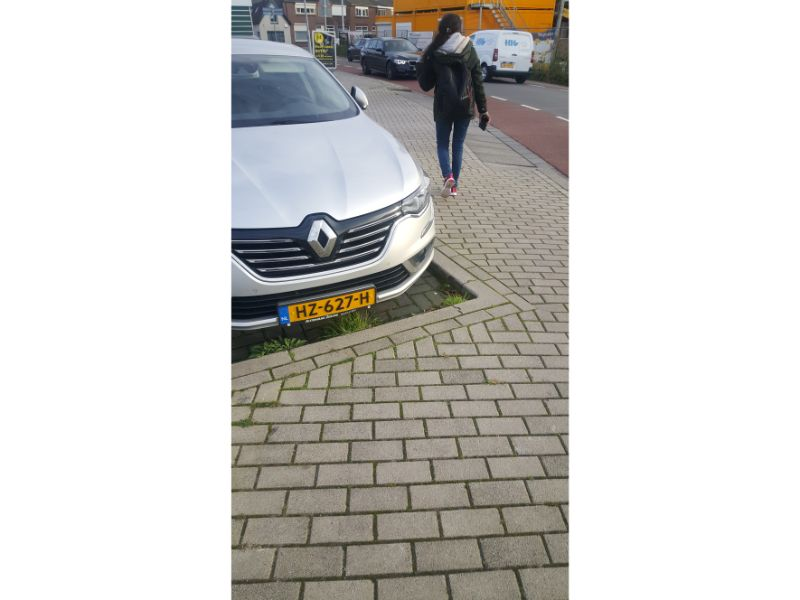kenteken: (282, 285, 376, 321)
